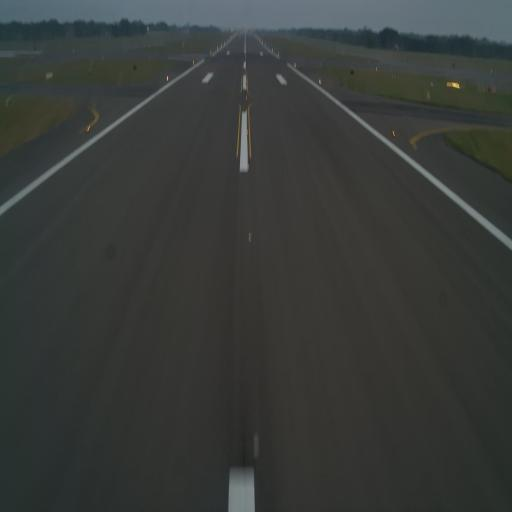on: (247, 230, 254, 246), (85, 125, 94, 133), (390, 130, 397, 140), (165, 74, 171, 84), (246, 161, 250, 171), (246, 127, 250, 137), (245, 106, 250, 114), (245, 94, 250, 102), (318, 77, 322, 86)
